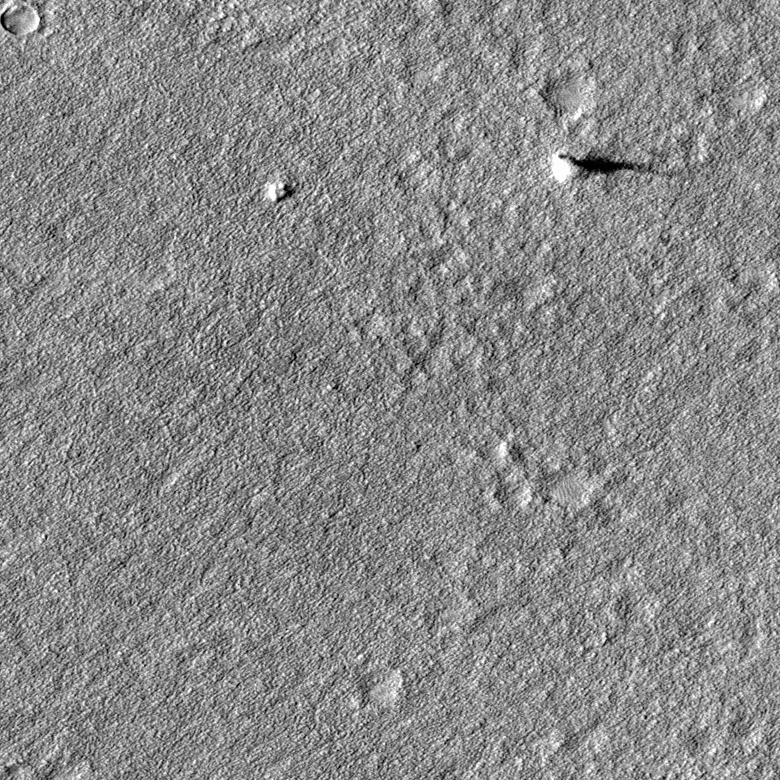dust_devil: (549, 149, 662, 183)
